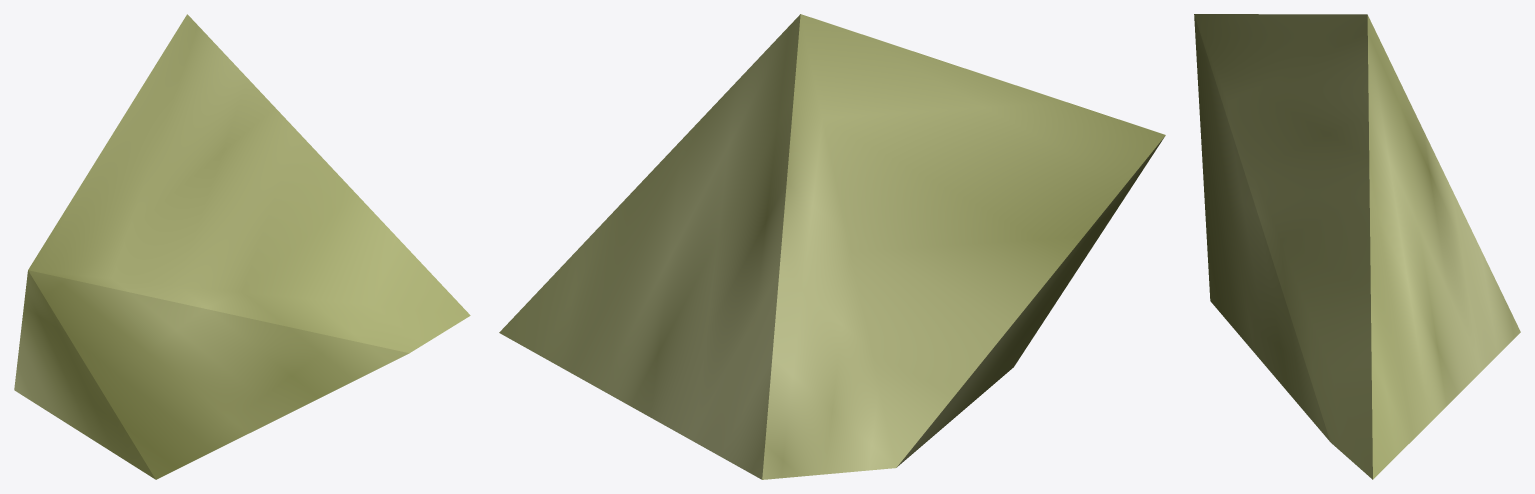
3 views of the same model, side by side, from view 1: azimuth 30°, elevation 25°; view 2: azimuth 150°, elevation 25°; view 3: azimuth 270°, elevation 25° (orthographic). The views are drawn at different scales.
Bounding box in the file's own units: 0.1586 × 0.1046 × 0.0914.
Materials: 1 (1 with a texture image).
